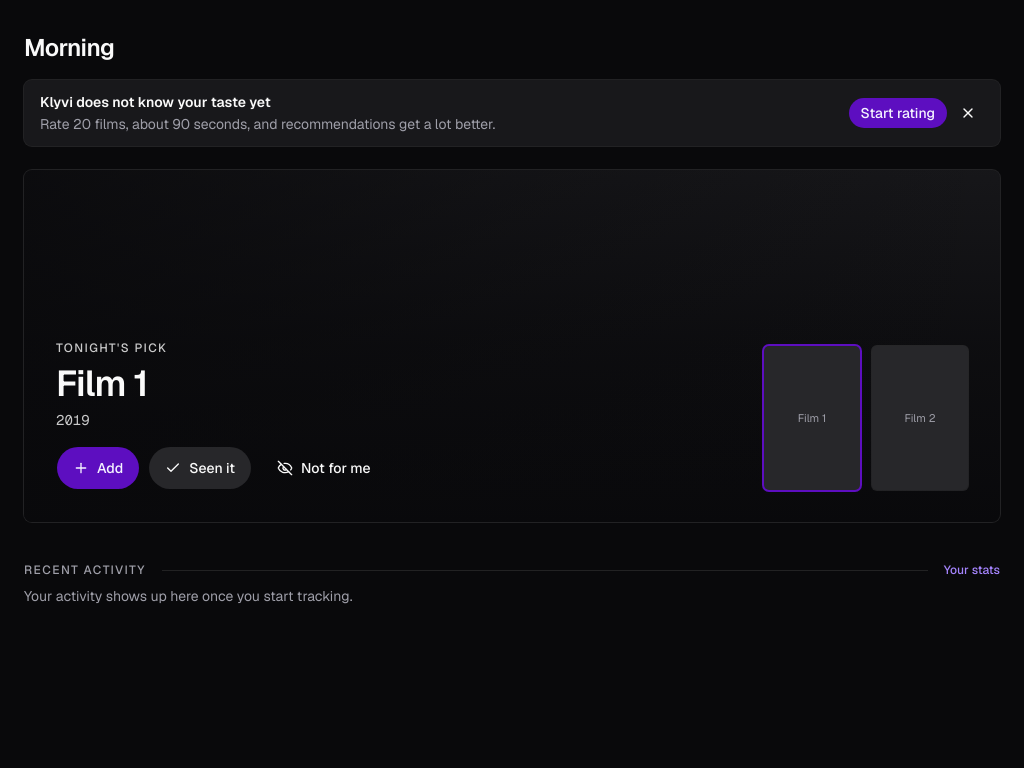
Test case: HomeClient › the hero › asks how it was when you've seen it
Expected: the element "Tonight's pick" is shown, [24, 170, 1000, 522]
Click the button "Seen it" at (200,468), box [148, 446, 252, 490]
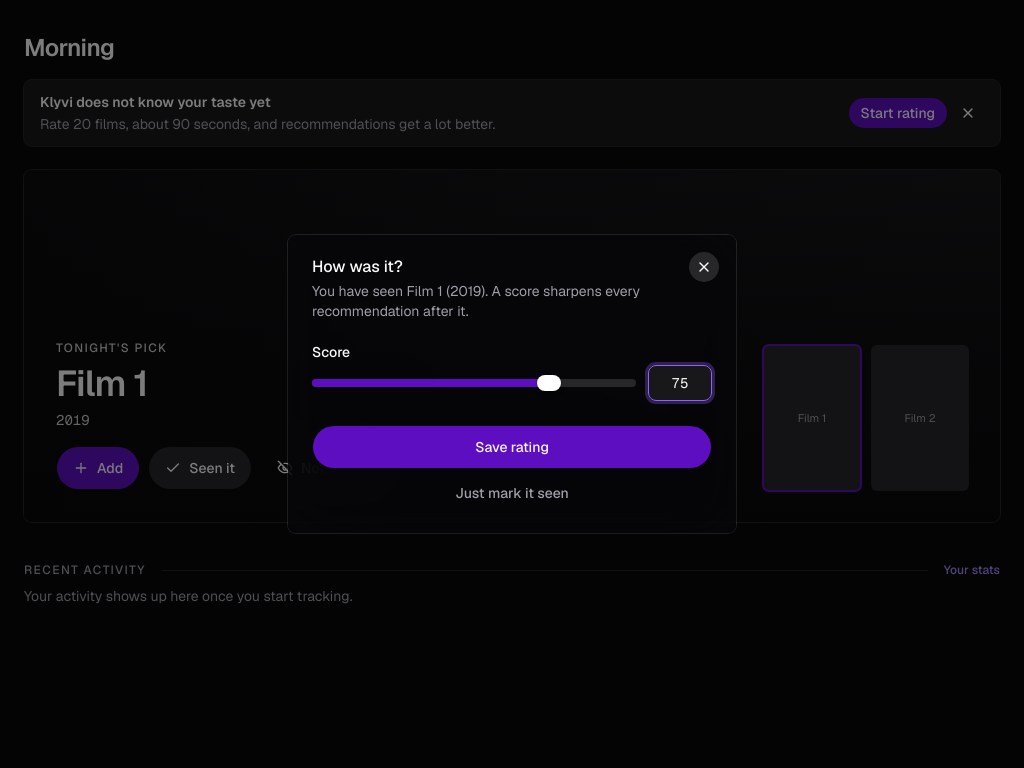
Now the dialog is shown, box [288, 235, 736, 533]
